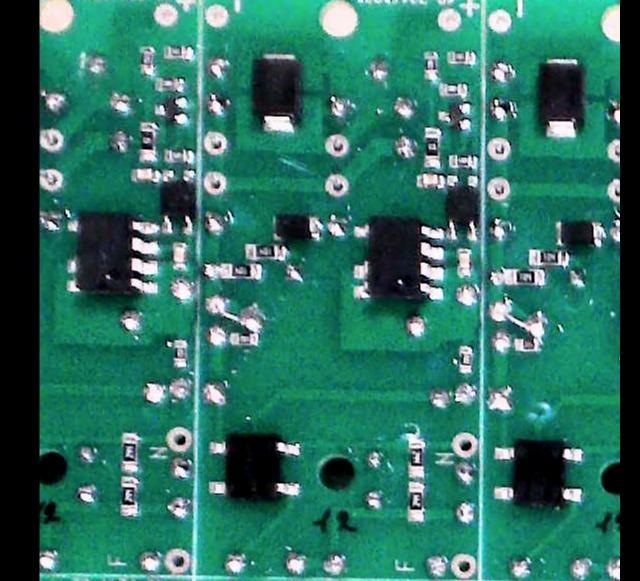chip-capacitor: (455, 246, 473, 279), (128, 166, 161, 184), (416, 172, 447, 189), (170, 241, 187, 272)
chip-resistor: (404, 435, 428, 479), (404, 481, 427, 524), (421, 127, 443, 169), (243, 243, 289, 263), (119, 432, 141, 473), (117, 476, 139, 517), (502, 267, 546, 287), (219, 261, 264, 280), (138, 120, 158, 160), (529, 248, 567, 267), (456, 344, 475, 376), (171, 337, 189, 370), (163, 147, 194, 166), (435, 80, 469, 97), (422, 49, 440, 81), (227, 330, 260, 347), (444, 48, 476, 65), (154, 75, 186, 92), (446, 153, 479, 169), (139, 46, 156, 76), (162, 44, 194, 59), (513, 336, 540, 352)
diode: (251, 51, 305, 133), (537, 56, 587, 141), (552, 217, 604, 247), (270, 214, 322, 242)
ic: (64, 211, 160, 298), (351, 217, 445, 305), (490, 436, 586, 510), (205, 431, 304, 500), (159, 165, 197, 233), (444, 172, 480, 241)
transistor: (151, 94, 189, 126), (437, 100, 473, 130)
